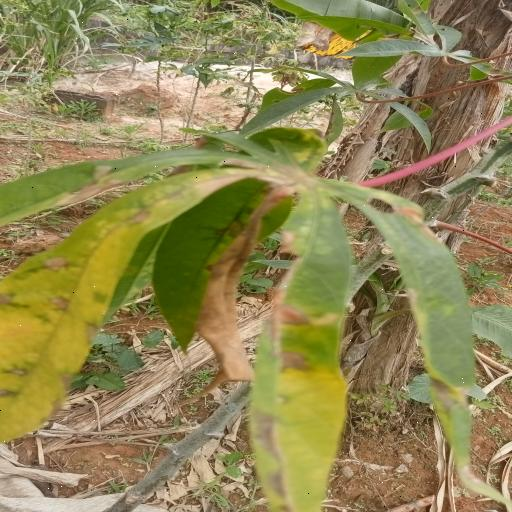Cassava_Bacterial_Disease: (0, 127, 474, 503)
